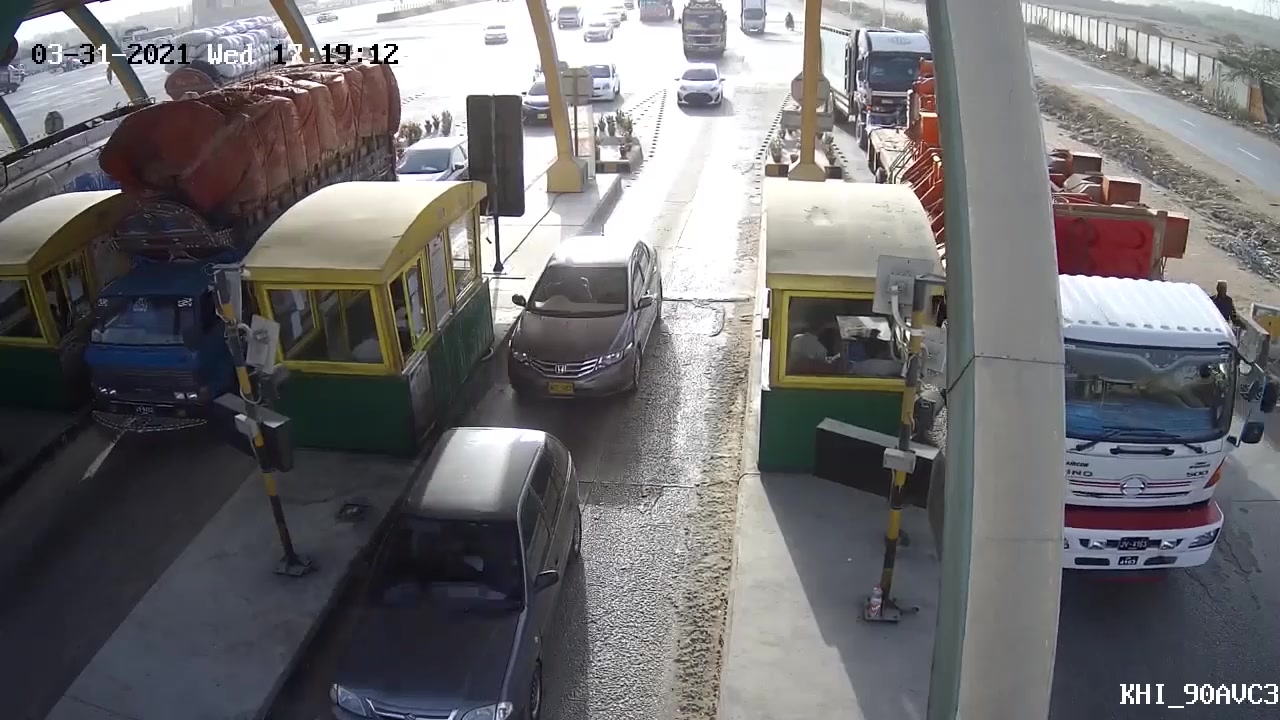F1: (500, 225, 678, 422)
